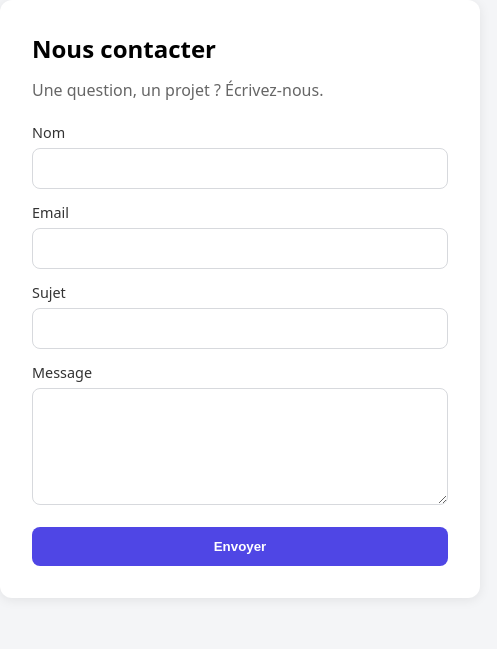
Scenario: ContactForm › affiche un message d'erreur si l'API répond en erreur
In the field labelled "Nom": (240, 168) [32, 148, 448, 189], type "Alice Dupont"
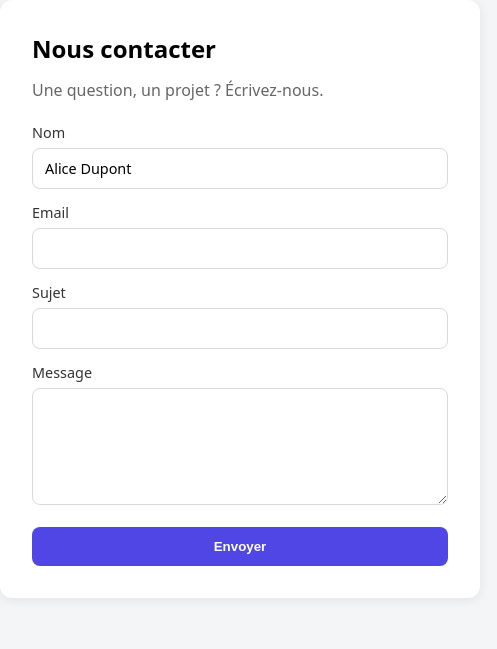
In the field labelled "Email": (240, 248) [32, 228, 448, 269], type "alice@example.com"
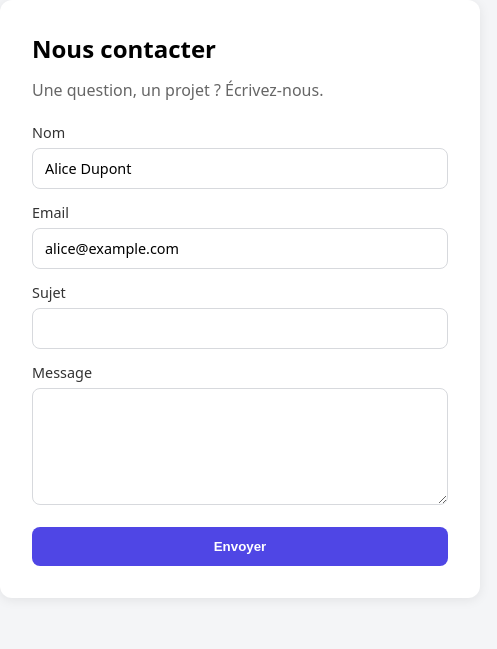
In the field labelled "Sujet": (240, 328) [32, 308, 448, 349], type "Une question"
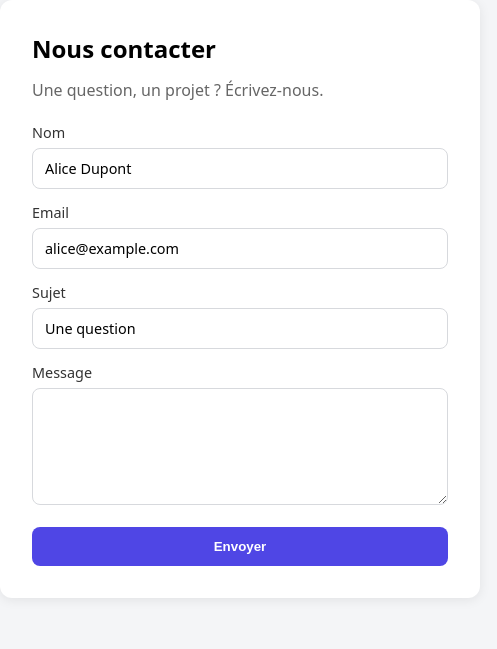
In the text box labelled "Message": (240, 446) [32, 388, 448, 505], type "Bonjour, ceci est un message de test."
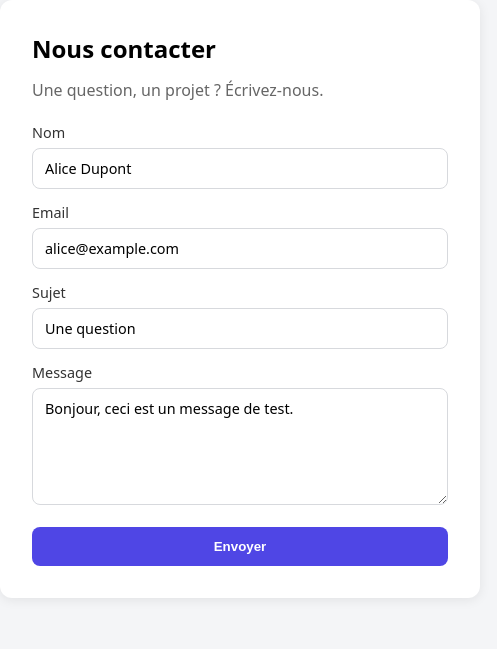
Submit the form
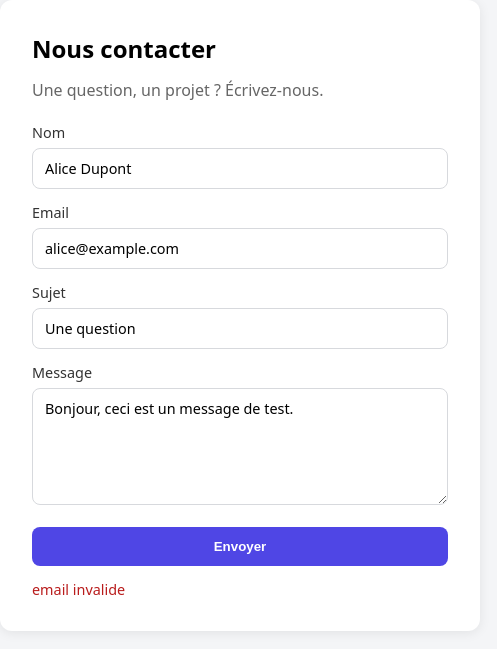
Check: the text with class "error" reads "email invalide", box [32, 580, 125, 599]
